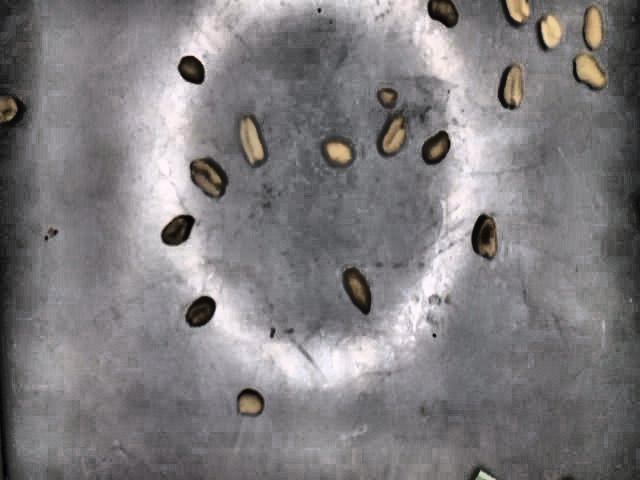Almennt: (190, 155, 235, 203), (239, 109, 271, 171), (493, 61, 530, 112), (320, 131, 365, 171), (570, 53, 610, 94), (343, 266, 375, 317), (468, 213, 499, 262), (580, 0, 607, 55), (181, 296, 223, 331), (418, 127, 454, 165), (232, 383, 269, 419), (535, 10, 564, 55), (158, 211, 196, 245), (377, 113, 407, 156), (170, 52, 208, 85), (422, 0, 461, 31), (503, 0, 538, 30), (0, 90, 22, 134), (375, 83, 403, 109)
